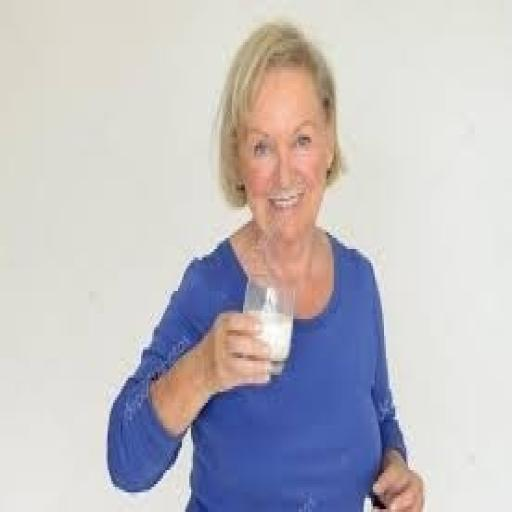drinking: (241, 277, 295, 375)
